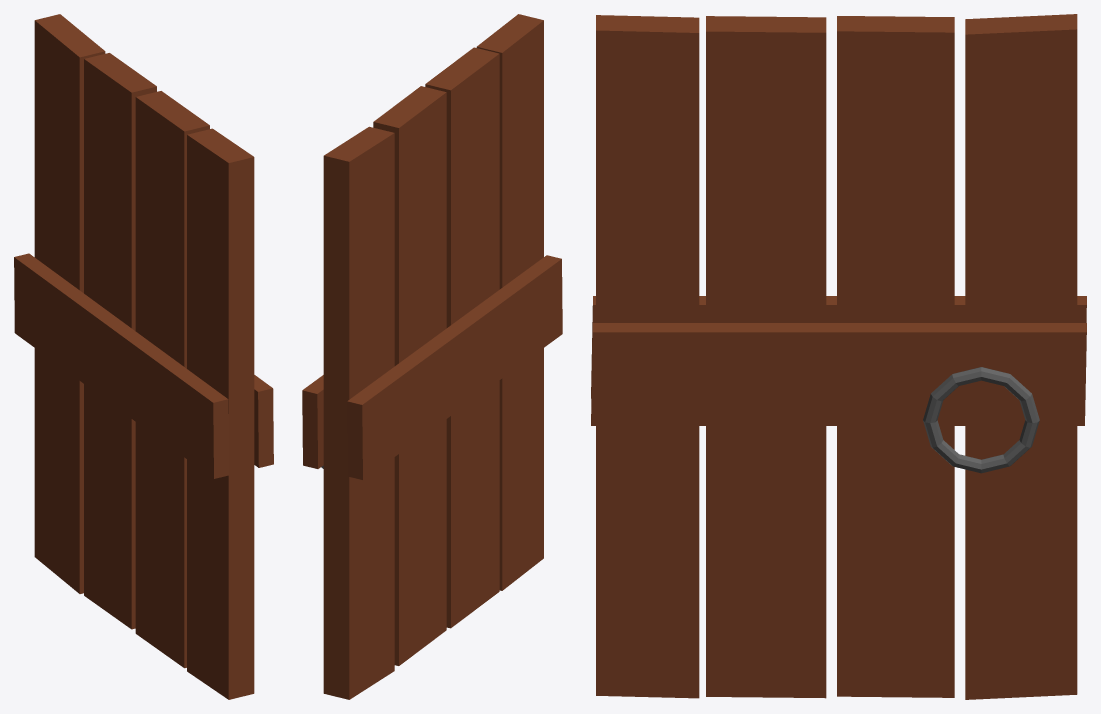
The model's file is door.glb.
3 renders of one model, left to right at view 1: azimuth 30°, elevation 25°; view 2: azimuth 150°, elevation 25°; view 3: azimuth 270°, elevation 25°, orthographic. The views are drawn at different scales.
Parts seen in each view (by area): view 1: Cube, Cube.001, Cube.002, Cube.003, Cube.005, Cube.004; view 2: Cube.003, Cube.001, Cube.002, Cube, Cube.005, Cube.004; view 3: Cube.001, Cube.002, Cube.003, Cube, Cube.004, Torus, Cube.005.
Boxes of the visible parts, left/top/right/bottom form: Cube: left=187, top=128, right=254, bottom=699; Cube.001: left=135, top=91, right=209, bottom=668; Cube.002: left=84, top=53, right=156, bottom=629; Cube.003: left=34, top=14, right=105, bottom=593; Cube.005: left=14, top=253, right=228, bottom=478; Cube.004: left=254, top=375, right=273, bottom=467; Cube.003: left=323, top=126, right=394, bottom=699; Cube.001: left=425, top=47, right=499, bottom=628; Cube.002: left=373, top=86, right=446, bottom=665; Cube: left=476, top=14, right=543, bottom=590; Cube.005: left=347, top=255, right=562, bottom=479; Cube.004: left=302, top=375, right=323, bottom=468; Cube.001: left=706, top=16, right=826, bottom=698; Cube.002: left=837, top=16, right=954, bottom=697; Cube.003: left=965, top=14, right=1077, bottom=699; Cube: left=596, top=15, right=699, bottom=698; Cube.004: left=591, top=323, right=1086, bottom=425; Torus: left=923, top=367, right=1039, bottom=473; Cube.005: left=591, top=296, right=1086, bottom=398.
Size of what is drawn, in the model's own units: 0.2928 by 2.02 by 1.36.
